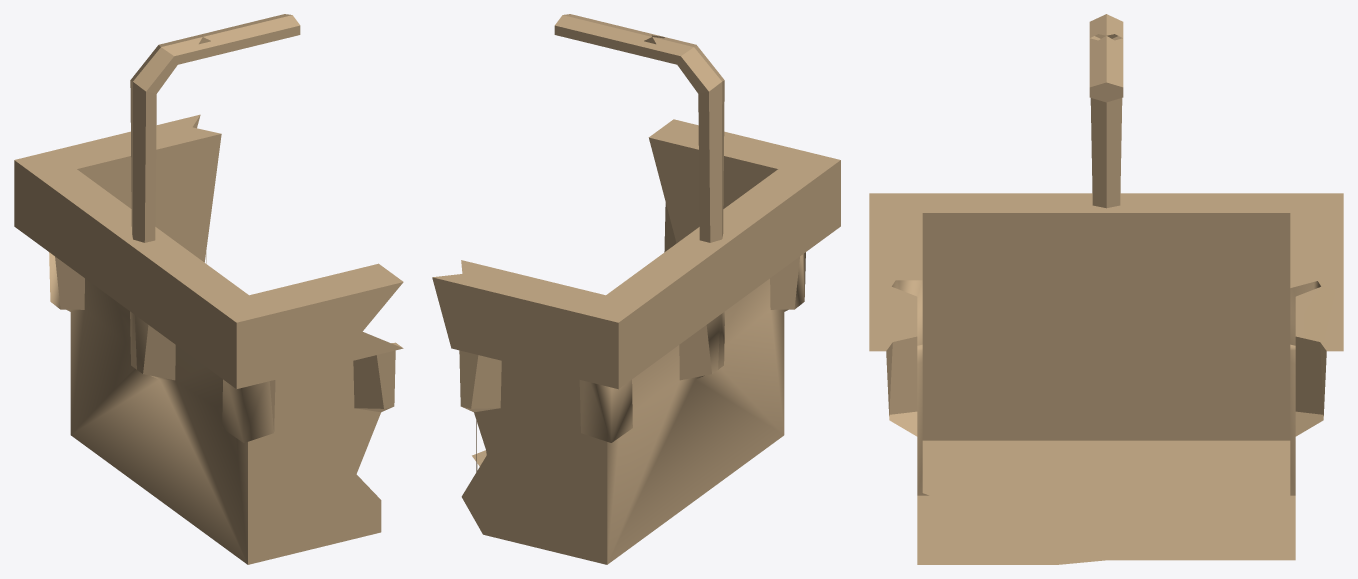
Rendered from basket2.fbx.
3 views of the same model, side by side, from view 1: azimuth 30°, elevation 25°; view 2: azimuth 150°, elevation 25°; view 3: azimuth 270°, elevation 25° (orthographic). The views are drawn at different scales.
Parts seen in each view (by area): view 1: Cube.002; view 2: Cube.002; view 3: Cube.002.
Boxes of the visible parts, bbox=[...] form: Cube.002: bbox=[14, 14, 403, 564]; Cube.002: bbox=[432, 14, 840, 564]; Cube.002: bbox=[869, 14, 1343, 564].
Size of the model in its own units: 108 by 234 by 209.
